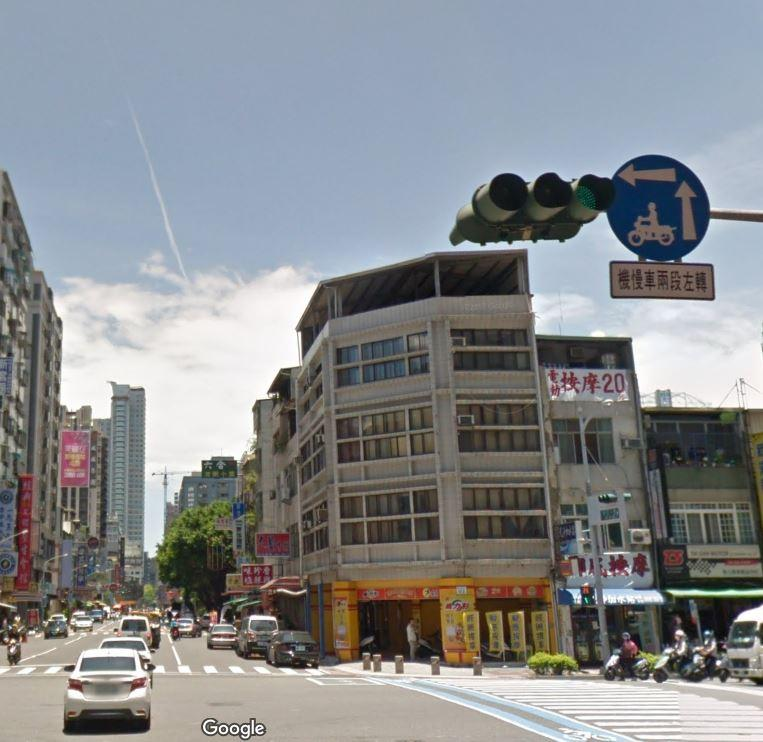green_traffic_light: (444, 161, 612, 253)
